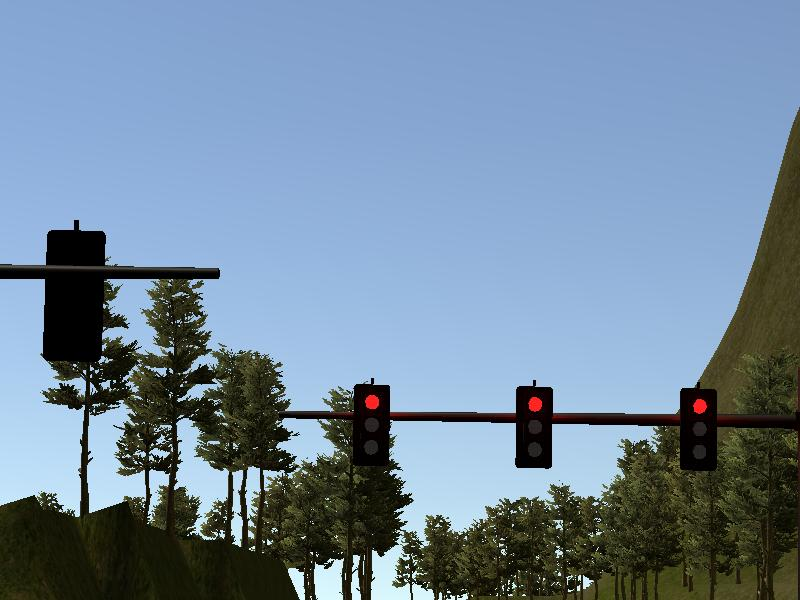Red: (679, 389, 716, 470), (515, 386, 550, 468), (353, 383, 387, 464)
